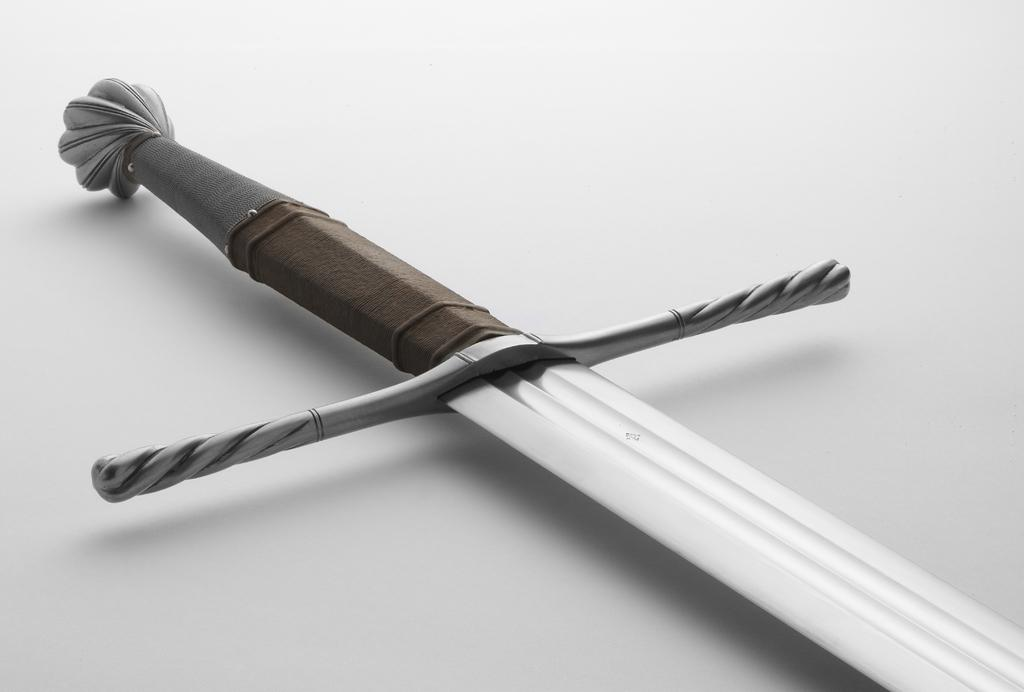Sword: (58, 77, 1023, 691)
